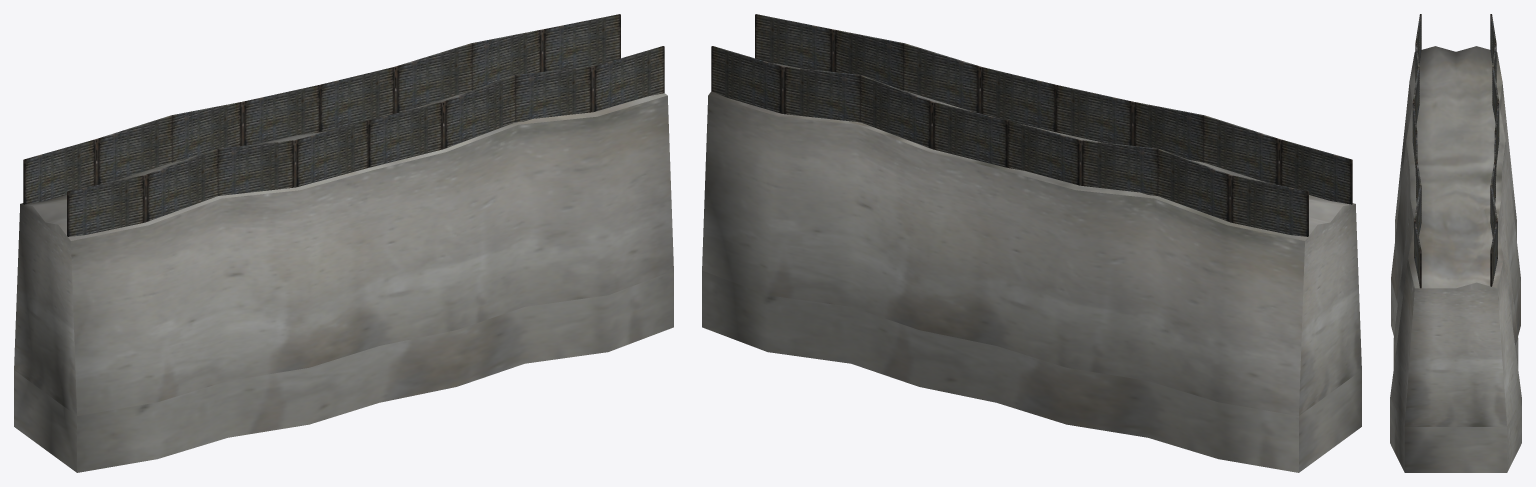
File: wall_long.dae
3 renders of one model, left to right at view 1: azimuth 30°, elevation 25°; view 2: azimuth 150°, elevation 25°; view 3: azimuth 270°, elevation 25°, orthographic. The views are drawn at different scales.
Visible parts, largest first — view 1: wall_long; view 2: wall_long; view 3: wall_long.
Part boxes in pixels (x1,y1,x2,y2): wall_long: [14, 14, 673, 472]; wall_long: [702, 14, 1361, 472]; wall_long: [1390, 14, 1521, 472].
Bounding box in the file's own units: 35.29 × 8.31 × 15.88.
Materials: 1 (1 with a texture image).
